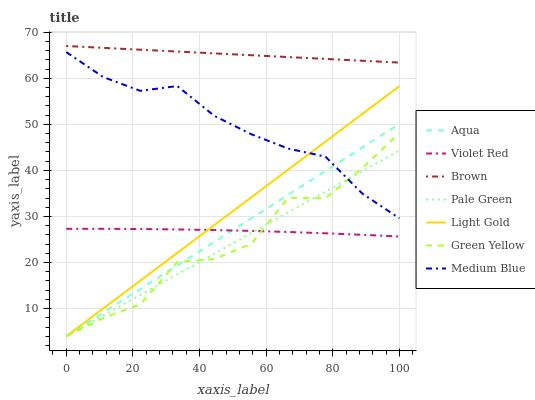axis: (57, 346, 420, 358), (43, 29, 54, 344)
legend: (414, 111, 535, 289)
line: (66, 84, 401, 337), (71, 124, 396, 336), (69, 132, 400, 335), (72, 148, 400, 335), (64, 50, 400, 220), (64, 44, 398, 66), (67, 227, 398, 239)
